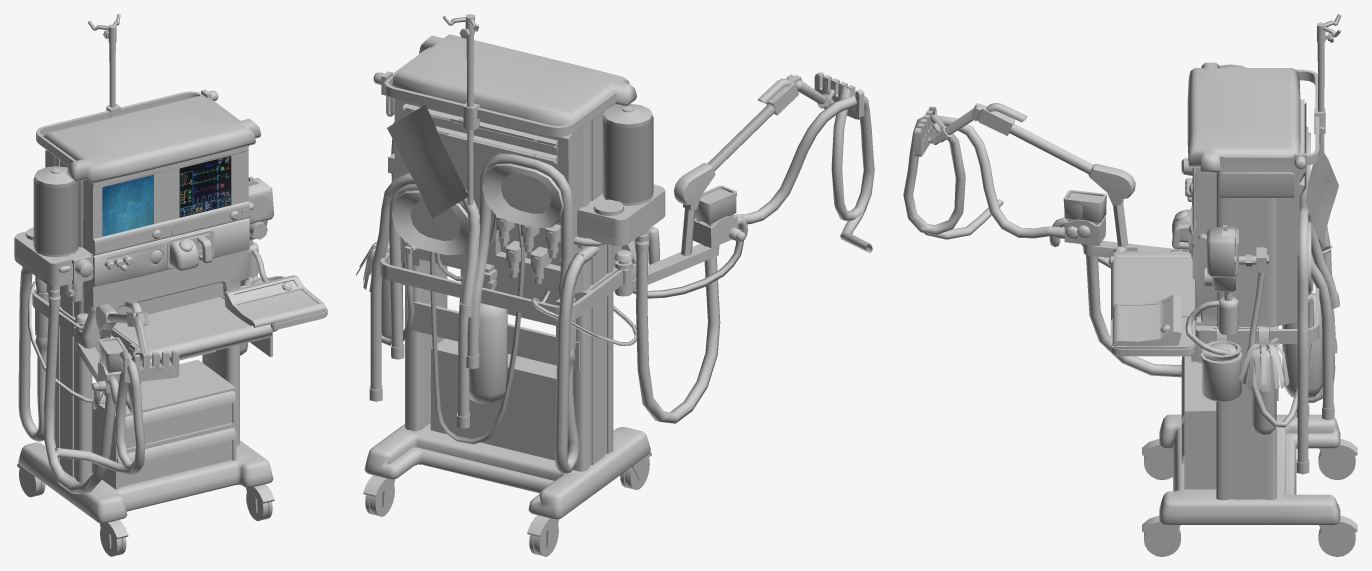
The model's file is Anest_Device.fbx.
3 views of the same model, side by side, from view 1: azimuth 30°, elevation 25°; view 2: azimuth 150°, elevation 25°; view 3: azimuth 270°, elevation 25° (orthographic). The views are drawn at different scales.
Visible parts, largest first — view 1: Anest_DeviceMachine, Anest_DeviceScreen; view 2: Anest_DeviceMachine; view 3: Anest_DeviceMachine.
Part boxes in pixels (x1,y1,x2,y2): Anest_DeviceMachine: (14,14,327,556); Anest_DeviceScreen: (102,156,231,236); Anest_DeviceMachine: (356,14,874,556); Anest_DeviceMachine: (903,14,1357,556).
Size of the model in its own units: 152 by 201 by 167.
